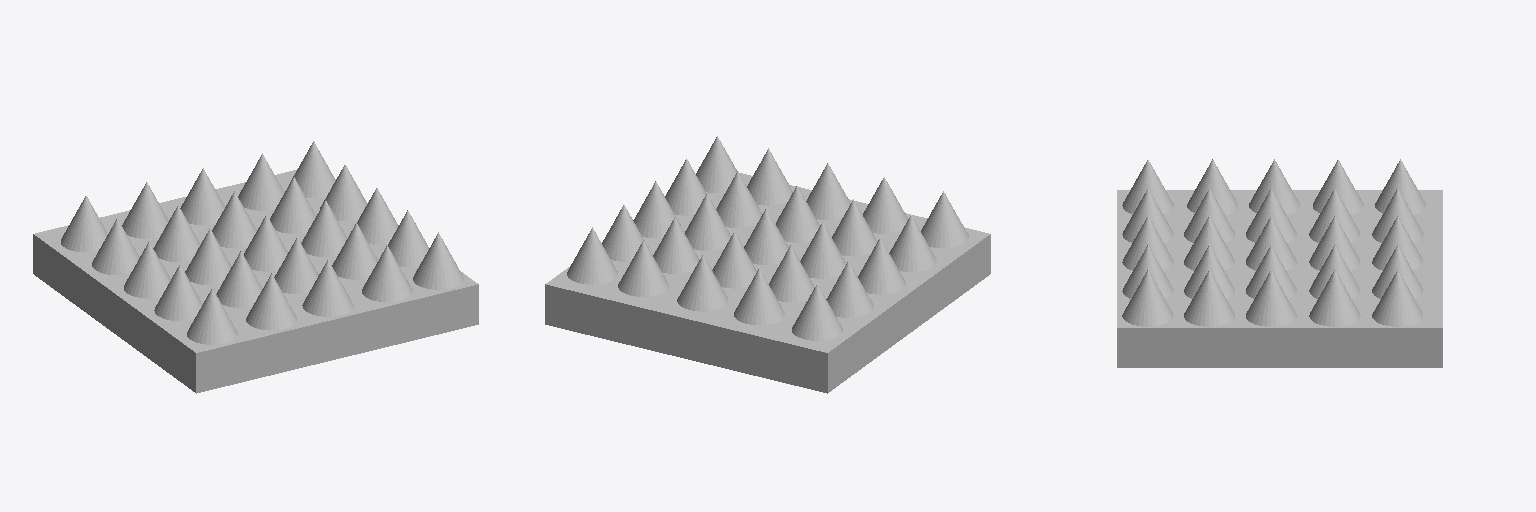
Rendered from deadlyplat.obj.
The picture shows the model from 3 angles: view 1: azimuth 30°, elevation 25°; view 2: azimuth 150°, elevation 25°; view 3: azimuth 270°, elevation 25°; orthographic projection.
Bounding box in the file's own units: 2 × 0.5884 × 2.